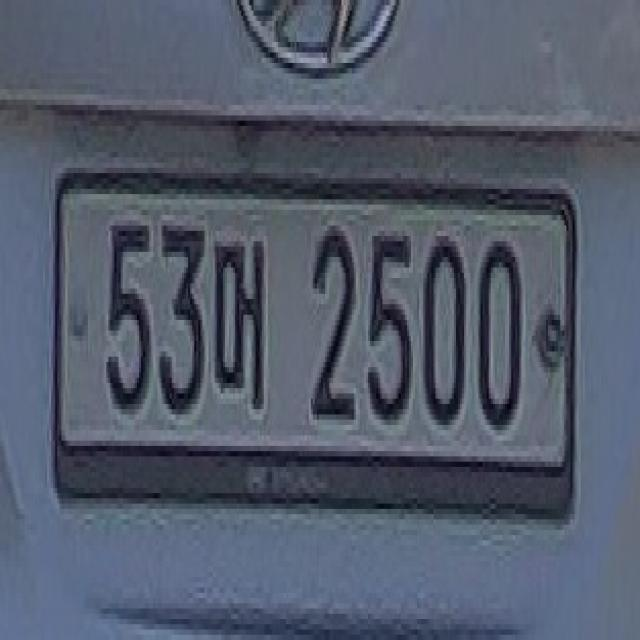0: (472, 226, 540, 457), (415, 199, 470, 456)
2: (301, 210, 364, 456)
3: (156, 189, 207, 441)
5: (358, 205, 417, 451), (98, 215, 158, 441)
license_plate: (57, 173, 583, 551)
meo: (209, 220, 272, 430)
